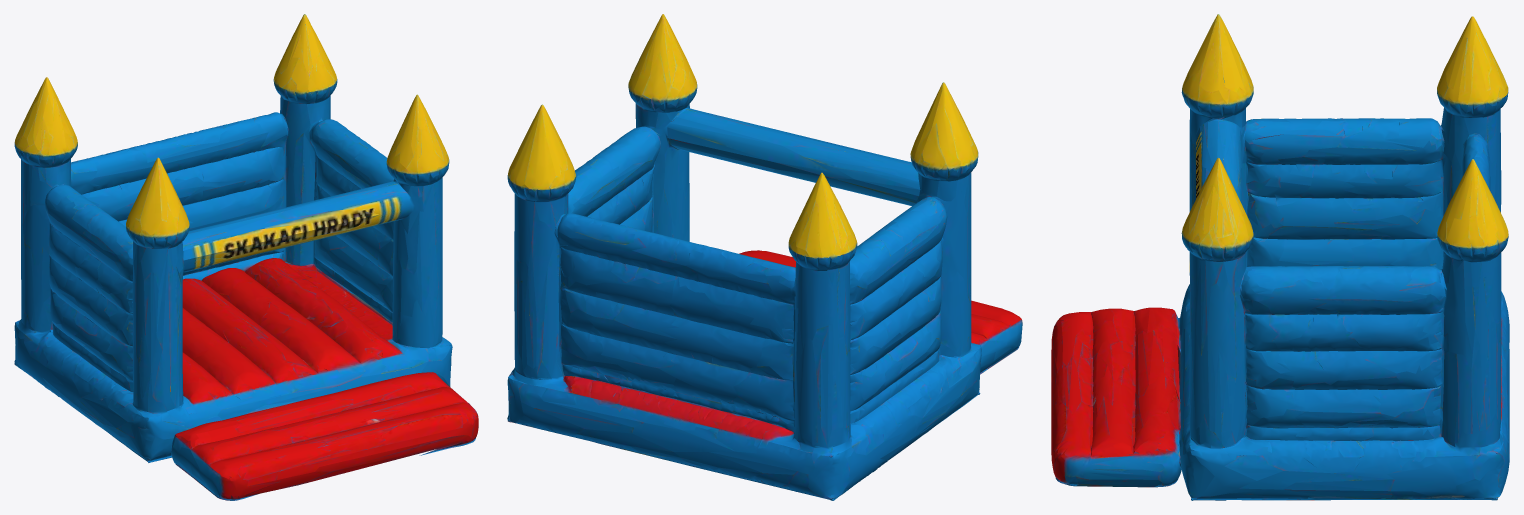
Rendered from navrh.glb.
The picture shows the model from 3 angles, left to right: view 1: azimuth 30°, elevation 25°; view 2: azimuth 150°, elevation 25°; view 3: azimuth 270°, elevation 25°; orthographic projection. The views are drawn at different scales.
Size of the model in its own units: 1.72 by 1.52 by 1.9.
1 material, 1 textured.
